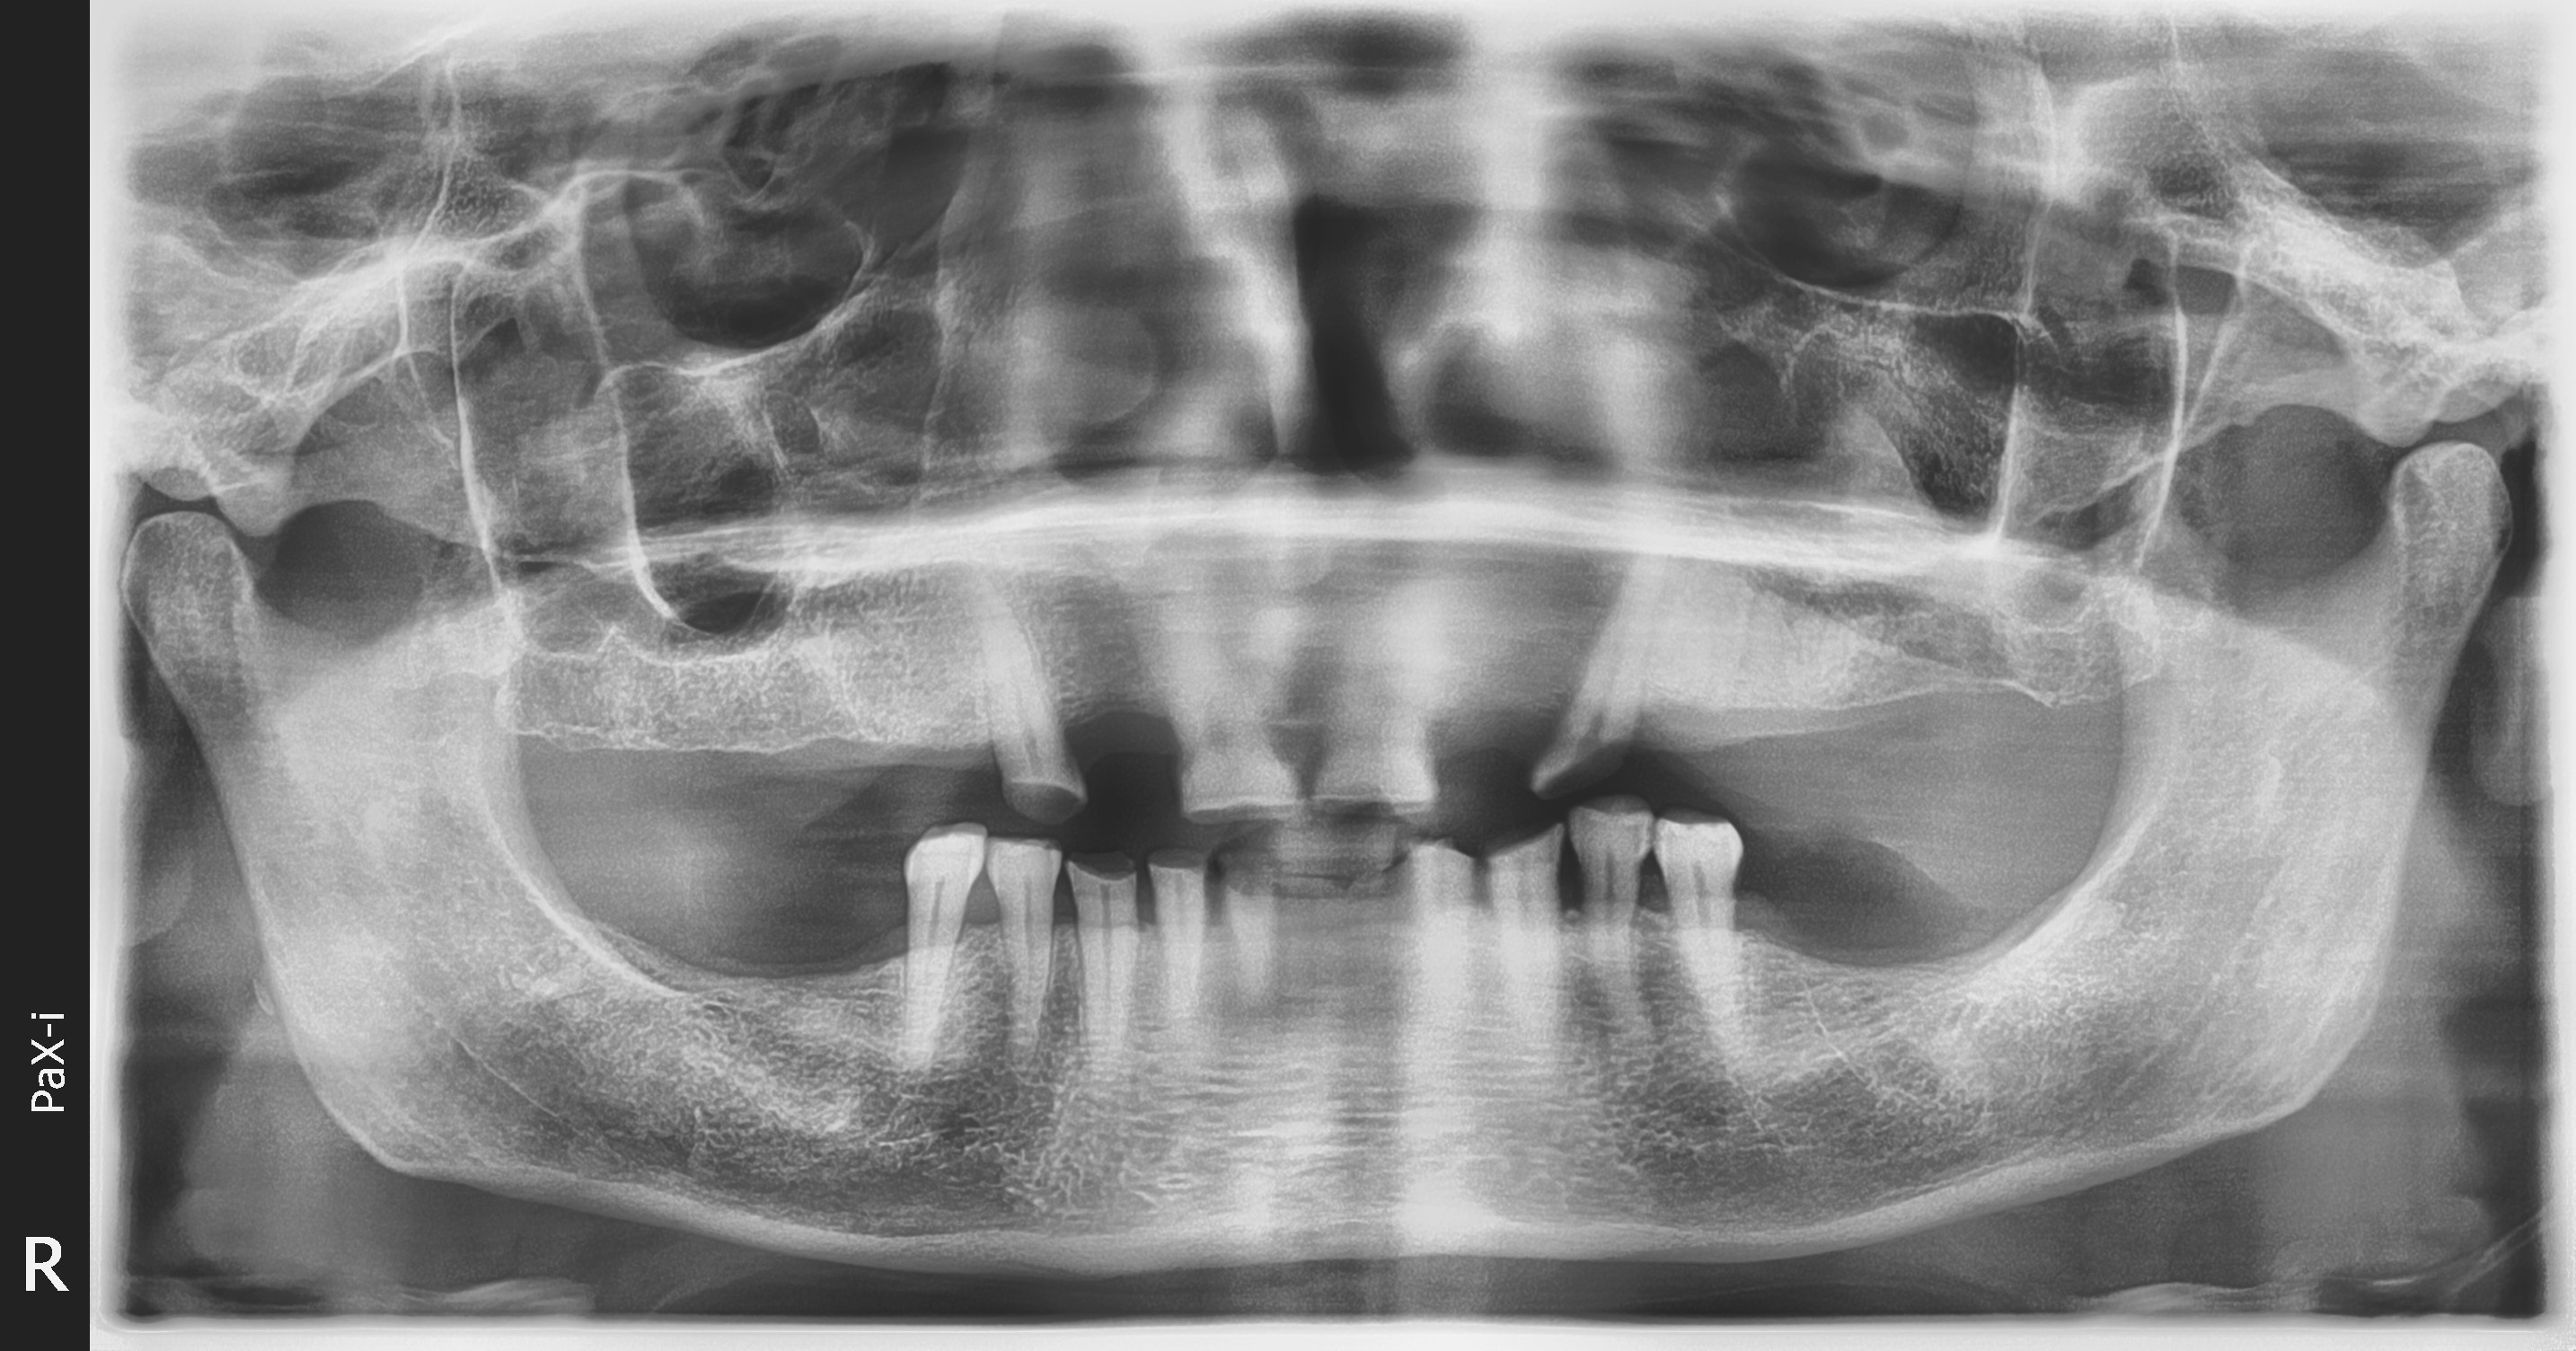CAR: (780, 365, 2438, 1232)
